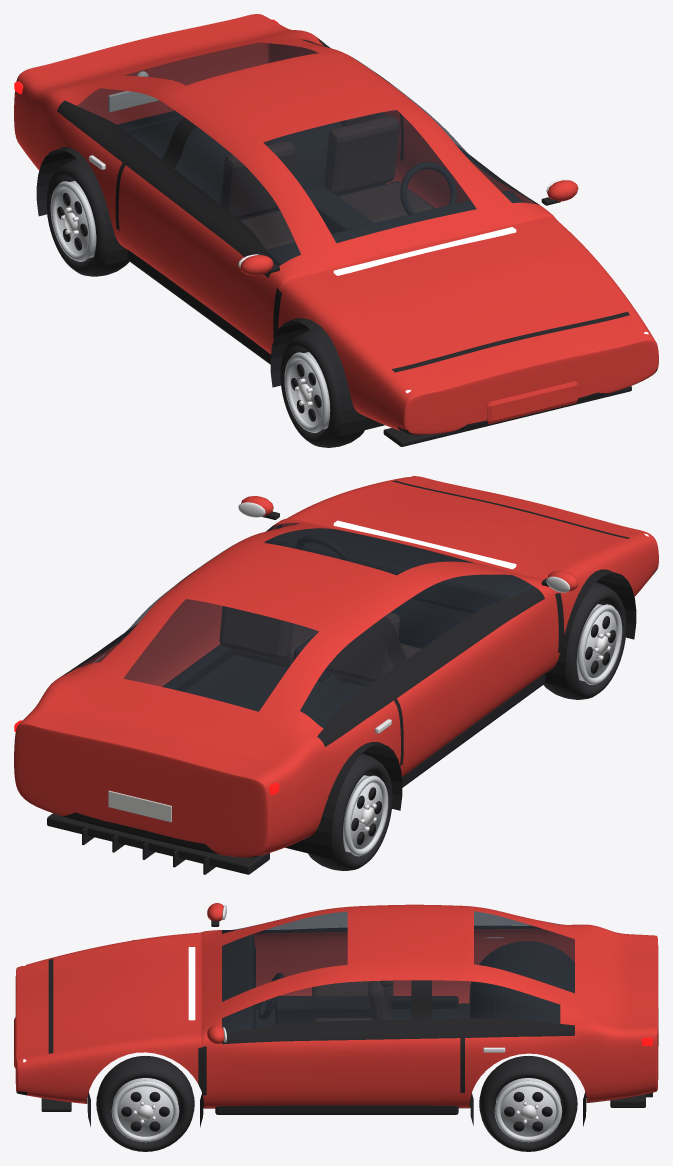
File: volt.glb
3 renders of one model, top to bottom at view 1: azimuth 30°, elevation 25°; view 2: azimuth 150°, elevation 25°; view 3: azimuth 270°, elevation 25°, orthographic. The views are drawn at different scales.
Parts seen in each view (by area): view 1: body, wheel_rr, wheel_fr; view 2: body, wheel_fr, wheel_rr; view 3: body, wheel_fl, wheel_rl.
Boxes of the visible parts, x1,y1,x2,y2 form: body: [14, 14, 658, 446]; wheel_rr: [46, 159, 129, 276]; wheel_fr: [280, 330, 364, 447]; body: [14, 476, 658, 874]; wheel_fr: [543, 582, 626, 699]; wheel_rr: [308, 753, 392, 870]; body: [14, 903, 658, 1127]; wheel_fl: [96, 1056, 194, 1151]; wheel_rl: [479, 1056, 577, 1151].
Bounding box in the file's own units: 2.32 × 1.32 × 4.72.
